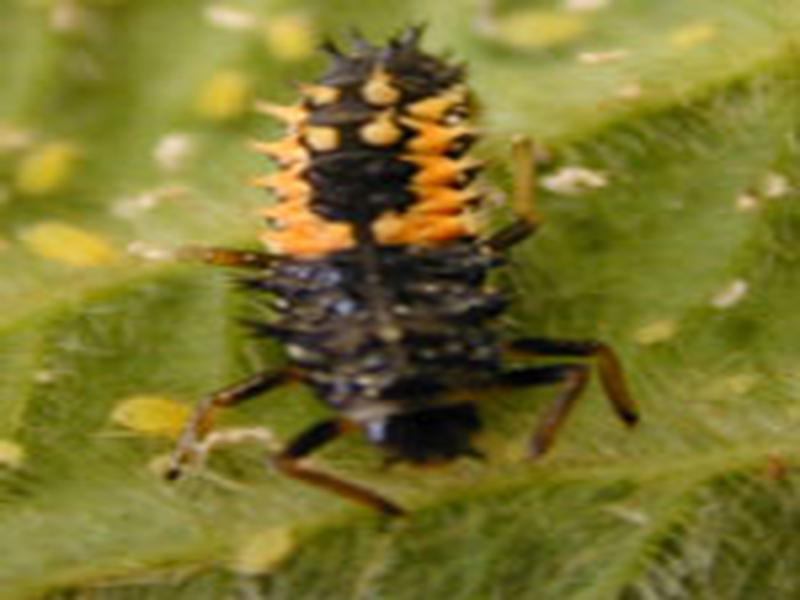Spiny_beetle: (214, 39, 638, 448)
